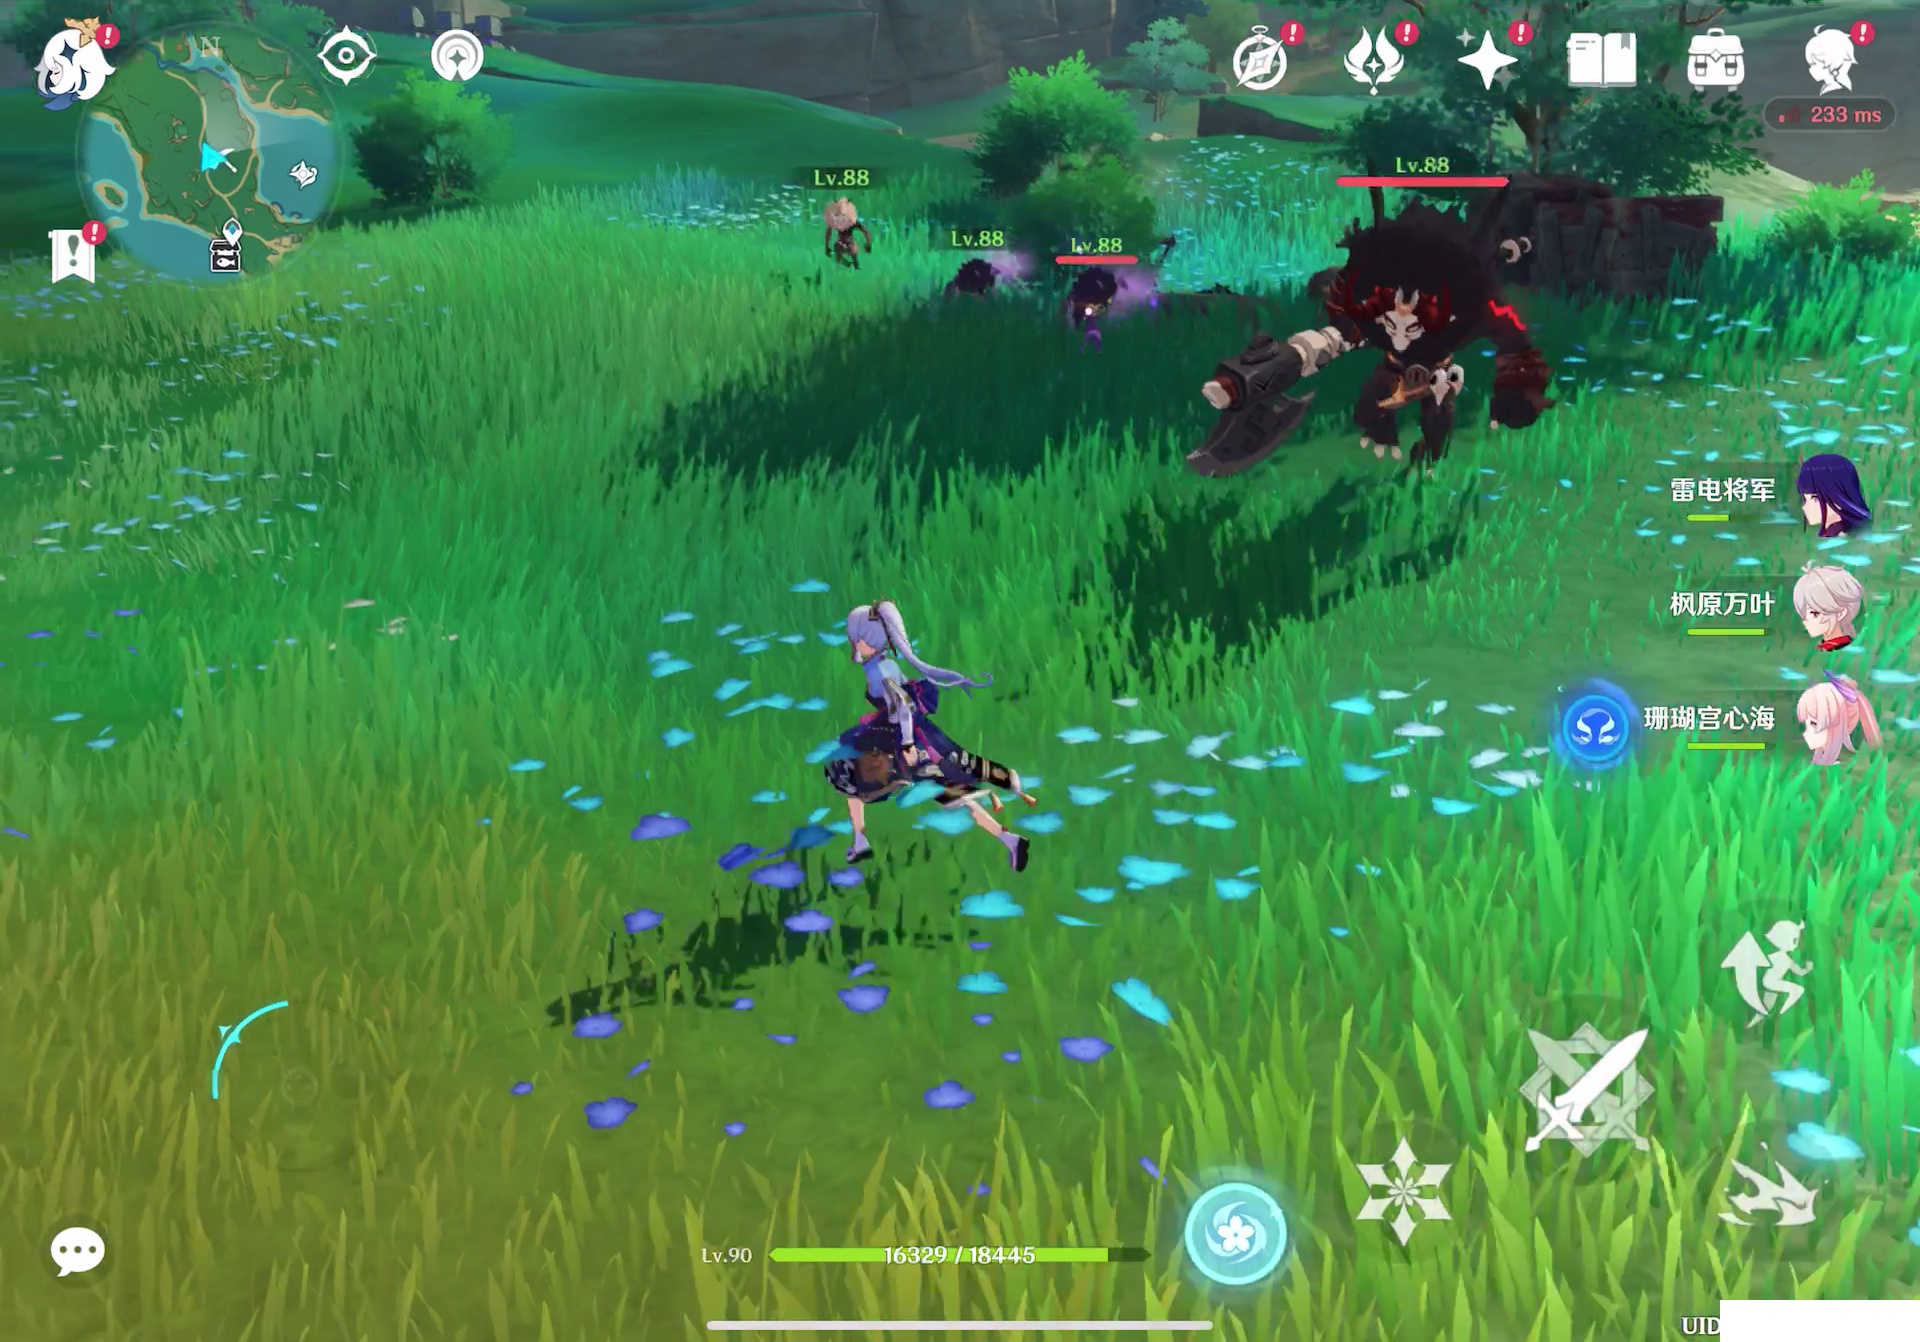NTR: (1201, 207, 1561, 513)
丘丘人: (811, 190, 889, 286), (1059, 268, 1158, 331), (935, 251, 1021, 303)
神里绫龟: (824, 583, 1040, 872)
